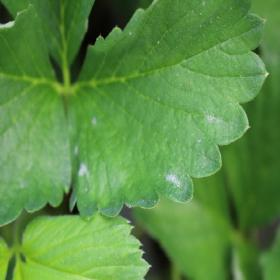Powdery Mildew Leaf: (66, 0, 269, 222)
